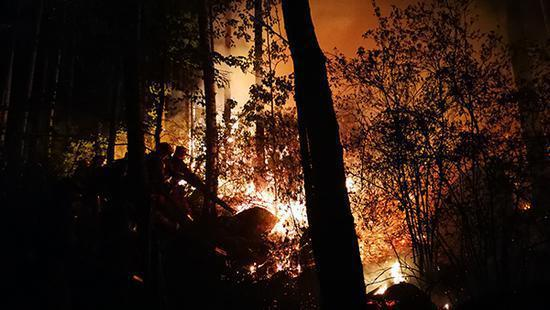fire: (340, 171, 426, 282), (217, 162, 307, 238)
